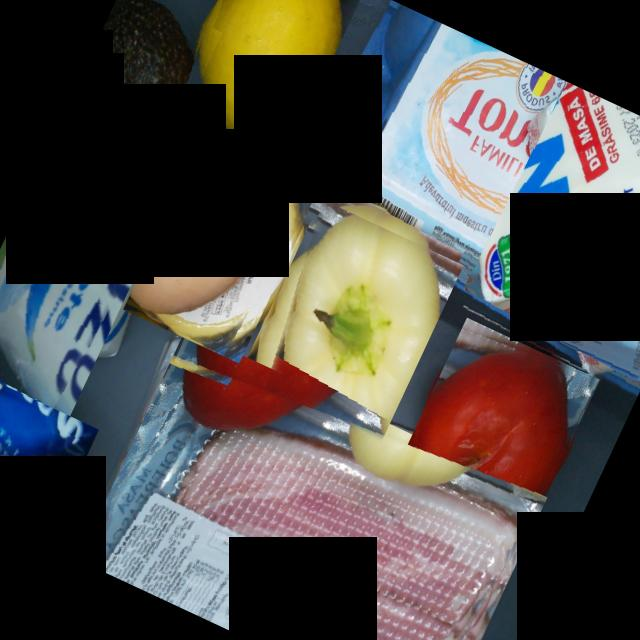avocado: (52, 0, 222, 182)
bacon: (78, 329, 547, 640)
butter: (465, 82, 640, 384)
cheese: (122, 132, 320, 364)
eggs: (278, 0, 640, 399), (136, 135, 298, 317)
lemon: (164, 0, 365, 168)
milk: (0, 140, 172, 425)
pepper: (231, 200, 464, 460)
tomatoes: (390, 318, 600, 544)
yogurt: (0, 368, 99, 545)
